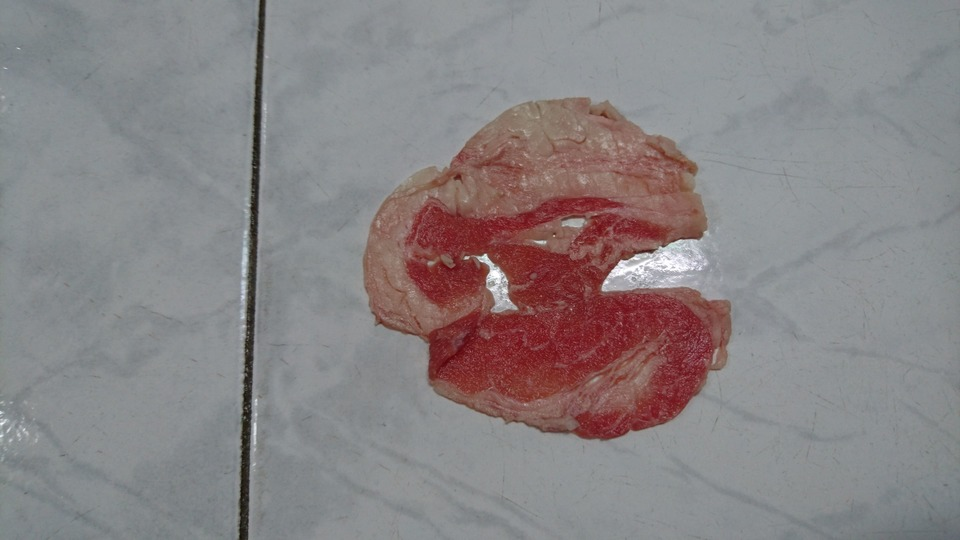restructured meat: (364, 93, 730, 445)
